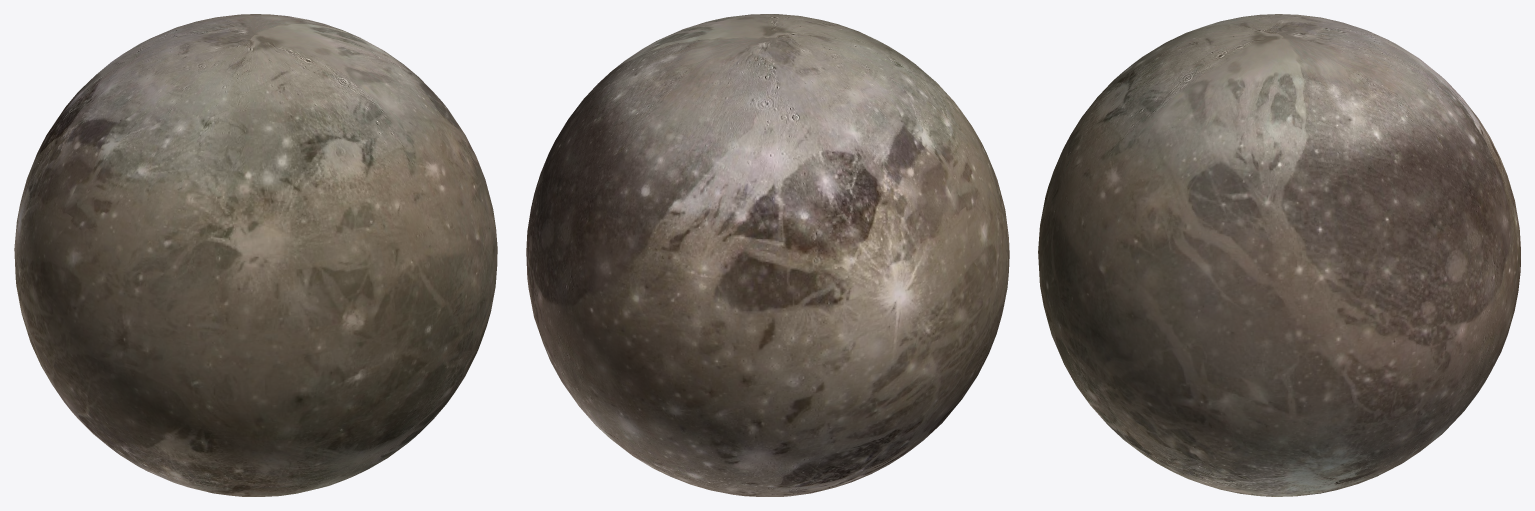
The model's file is Ganymede_Low.fbx.
3 renders of one model, left to right at view 1: azimuth 30°, elevation 25°; view 2: azimuth 150°, elevation 25°; view 3: azimuth 270°, elevation 25°, orthographic.
Visible parts, largest first — view 1: ganymede_Low; view 2: ganymede_Low; view 3: ganymede_Low.
Boxes of the visible parts, box(x1,y1,x2,y2) form: ganymede_Low: box(14, 14, 497, 496); ganymede_Low: box(526, 14, 1009, 496); ganymede_Low: box(1038, 14, 1520, 496).
Bounding box in the file's own units: 200 × 200 × 200.
Materials: 1 (1 with a texture image).
